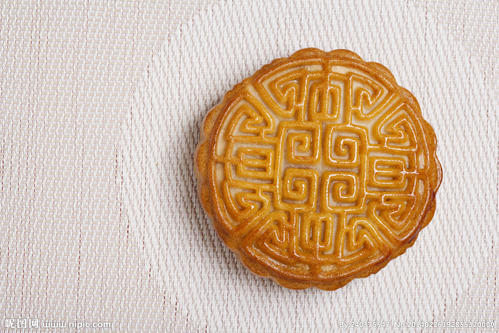MoonCake: (194, 45, 442, 293)
